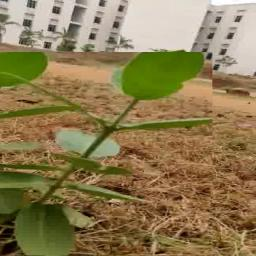CALOTROPIS: (0, 52, 214, 256)
